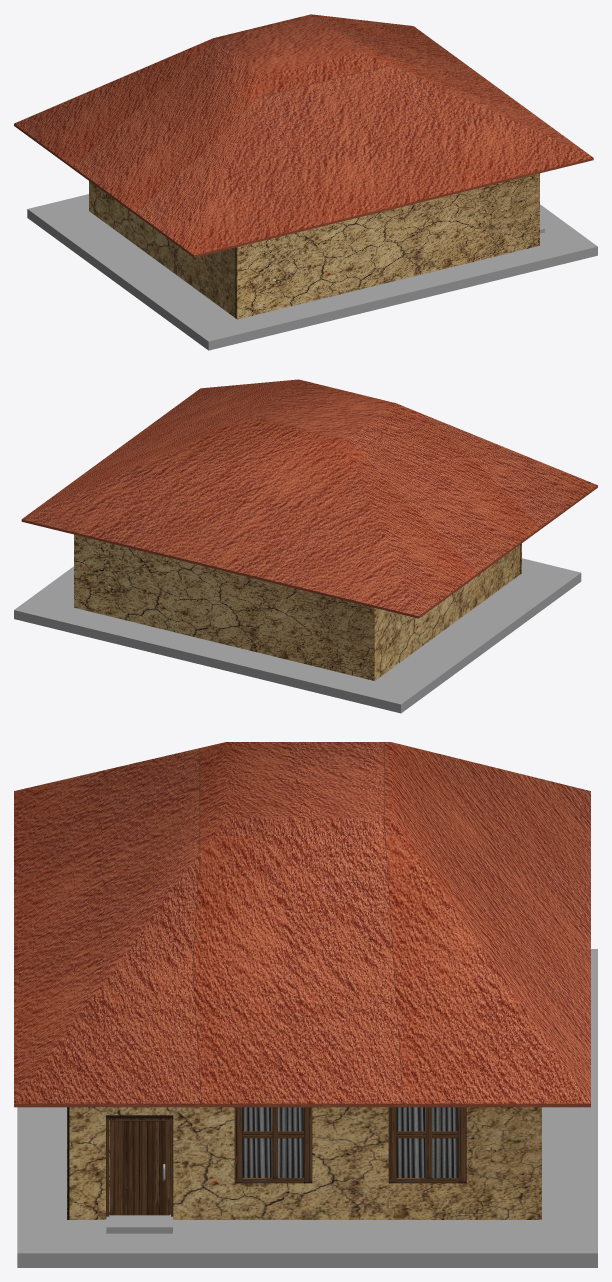
The model's file is Casa5.fbx.
3 views of the same model, one above another, from view 1: azimuth 30°, elevation 25°; view 2: azimuth 150°, elevation 25°; view 3: azimuth 270°, elevation 25° (orthographic). The views are drawn at different scales.
Visible parts, largest first — view 1: pCube76, pCube72, Base; view 2: pCube76, pCube72, Base; view 3: pCube76, Base, pCube72, pPlane1 (×2), Puerta, pCube48 (×2), pCube50 (×2), Escalera1, marco_Puerta.
Boxes of the visible parts, x1,y1,x2,y2 form: pCube76: (14, 14, 593, 257); pCube72: (89, 173, 539, 319); Base: (27, 194, 597, 350); pCube76: (21, 379, 597, 618); pCube72: (74, 534, 521, 680); Base: (14, 558, 581, 713); pCube76: (14, 742, 590, 1107); Base: (17, 949, 597, 1267); pCube72: (67, 1107, 541, 1219); pPlane1 (×2): (242, 1107, 458, 1177); Puerta: (110, 1120, 169, 1215); pCube48 (×2): (304, 1107, 466, 1183); pCube50 (×2): (234, 1107, 396, 1183); Escalera1: (106, 1214, 172, 1233); marco_Puerta: (106, 1115, 173, 1216).
Bounding box in the file's own units: 59.87 × 27.88 × 46.66.
5 materials, 4 textured.
